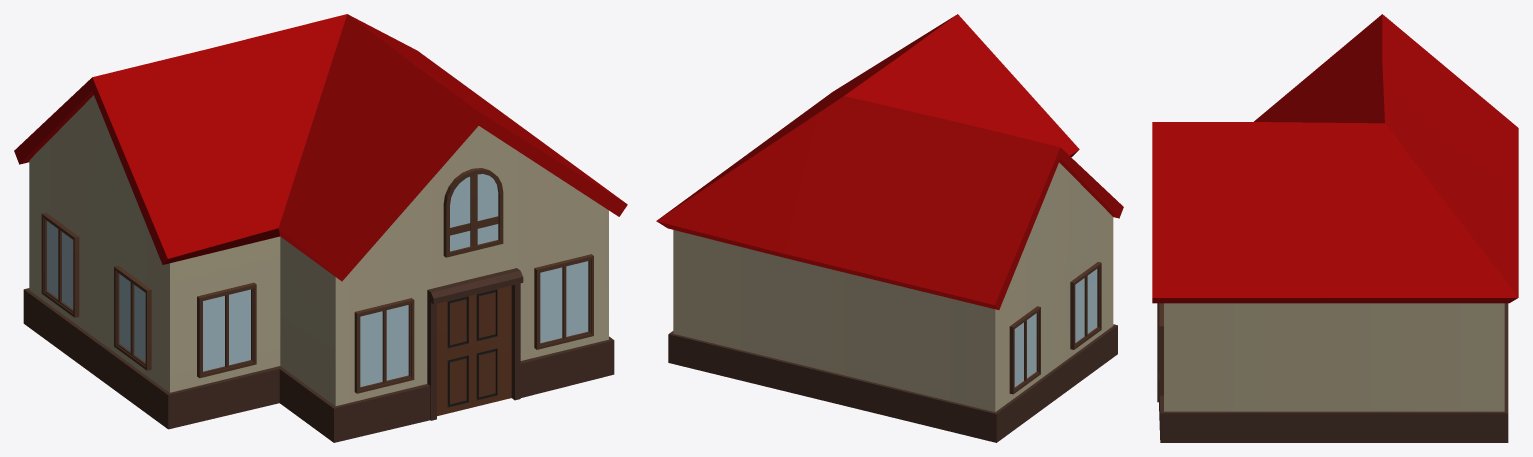
Rendered from Env_ResidentBuilding_01 1.fbx.
The picture shows the model from 3 angles, left to right: view 1: azimuth 30°, elevation 25°; view 2: azimuth 150°, elevation 25°; view 3: azimuth 270°, elevation 25°; orthographic projection. The views are drawn at different scales.
Visible parts, largest first — view 1: Env_ResidentBuilding_01; view 2: Env_ResidentBuilding_01; view 3: Env_ResidentBuilding_01.
Part boxes in pixels (box(x1,y1,x2,y2)): Env_ResidentBuilding_01: box(14, 14, 627, 442); Env_ResidentBuilding_01: box(656, 14, 1123, 442); Env_ResidentBuilding_01: box(1152, 14, 1518, 442).
Size of the model in its own units: 768 by 546 by 693.
Materials: 1 (1 with a texture image).
